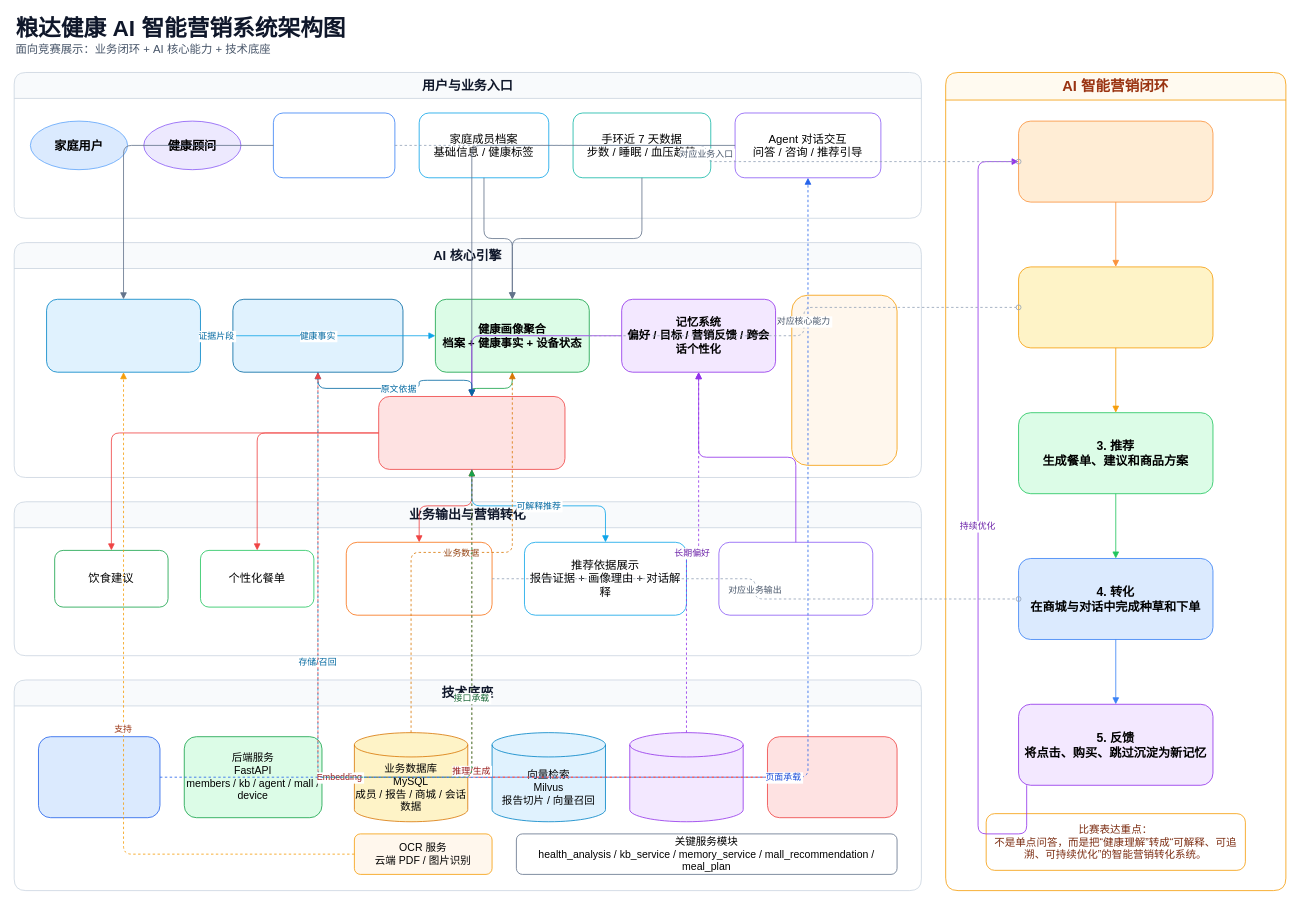
Some shapes in this 1300 by 905 pixel diagram are drawn without their labels. The shapes that lost their labels are listed below. From the top down, each one's centre as x and y in pixels, then its label:
At (x=334, y=145): "健康报告上传 PDF / OCR / 检验单".
At (x=1115, y=161): "1. 理解 解析健康报告 识别可营销的健康问题".
At (x=1115, y=307): "2. 洞察 聚合家庭画像、设备状态、长期记忆".
At (x=123, y=335): "报告理解引擎 文本抽取 / OCR / 健康事实识别".
At (x=317, y=335): "RAG 证据检索 Chunk / Embedding / 片段召回 / 原文追溯".
At (x=844, y=379): "核心定位： 报告抽取 -> 健康事实 RAG -> 查证据 记忆 -> 做个性化 Agent -> 编排与转化".
At (x=471, y=432): "推荐决策 Agent 意图识别 / 工具编排 / 自然语言生成".
At (x=418, y=578): "健康商品推荐 营养品 / 杂粮 / 调理方案".
At (x=795, y=578): "用户反馈回写 点击 / 购买 / 跳过 / 偏好变化".
At (x=99, y=777): "前端应用 React + Vite 成员 / 报告 / Chat / 商城页面".
At (x=686, y=777): "长期记忆 mem0 偏好 / 目标 / 营销反馈".
At (x=832, y=777): "模型服务 DashScope / 百炼兼容接口 Qwen + Embedding".
